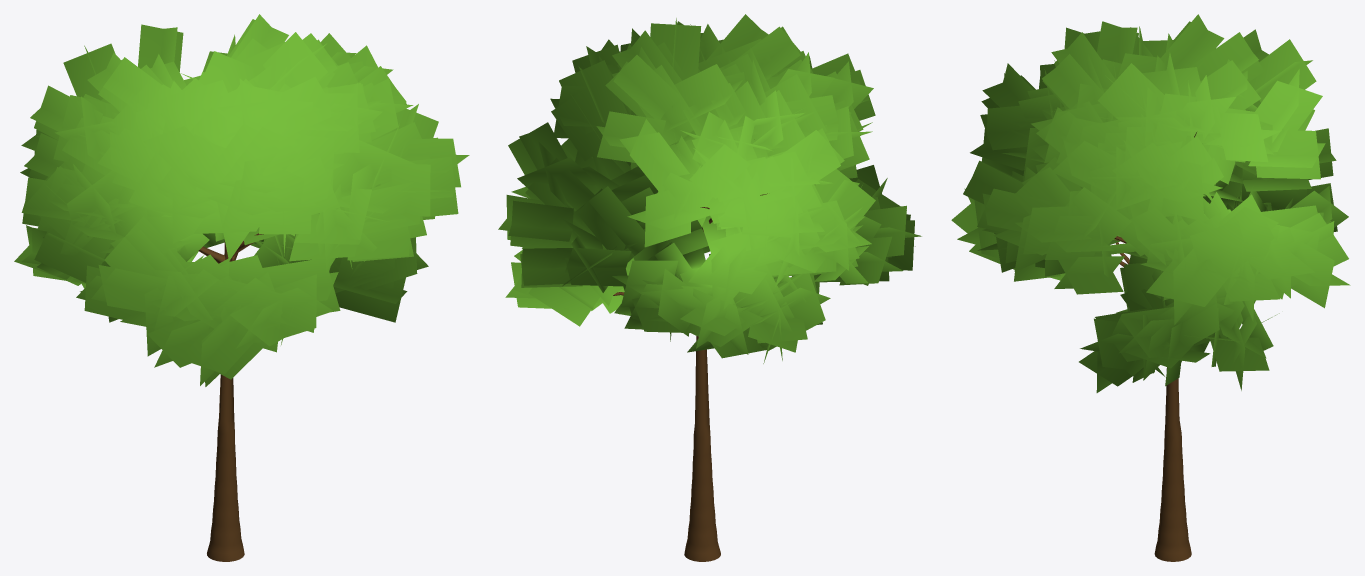
Rendered from SM_tree_fareast_01.fbx.
3 views of the same model, side by side, from view 1: azimuth 30°, elevation 25°; view 2: azimuth 150°, elevation 25°; view 3: azimuth 270°, elevation 25° (orthographic). The views are drawn at different scales.
Parts seen in each view (by area): view 1: tree007; view 2: tree007; view 3: tree007.
Boxes of the visible parts, x1,y1,x2,y2 form: tree007: (14, 14, 469, 561); tree007: (498, 14, 921, 561); tree007: (951, 14, 1350, 561).
Bounding box in the file's own units: 250 × 339 × 239.
